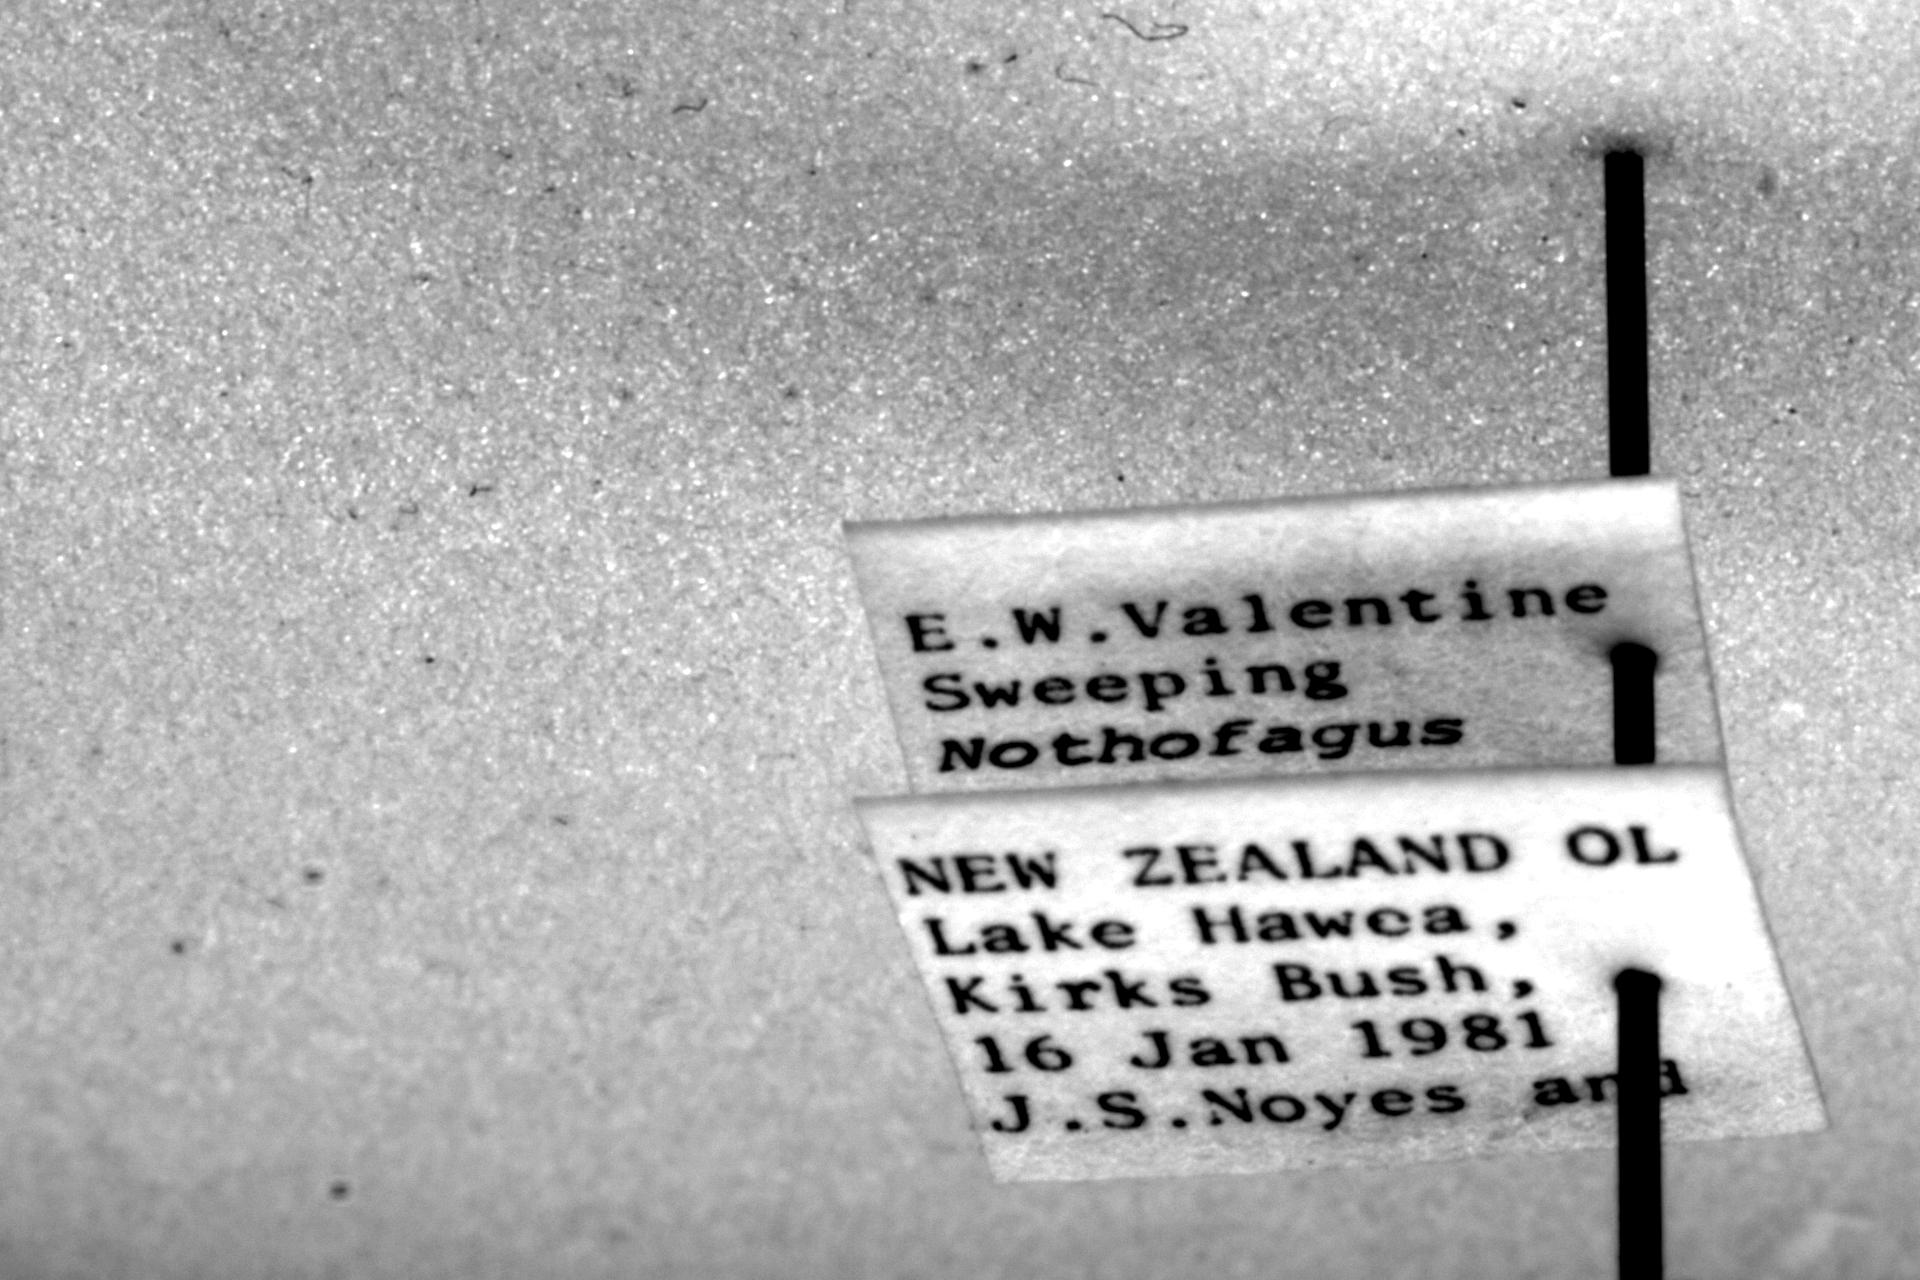typed_label: (859, 765, 1826, 1181), (848, 476, 1721, 791)
